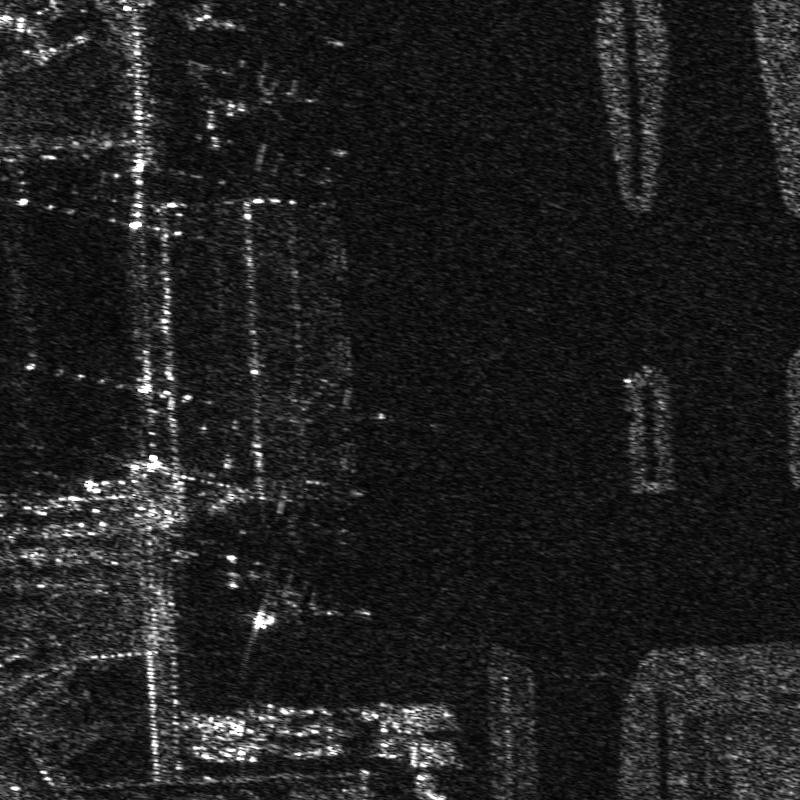A220: (228, 65, 321, 131)
